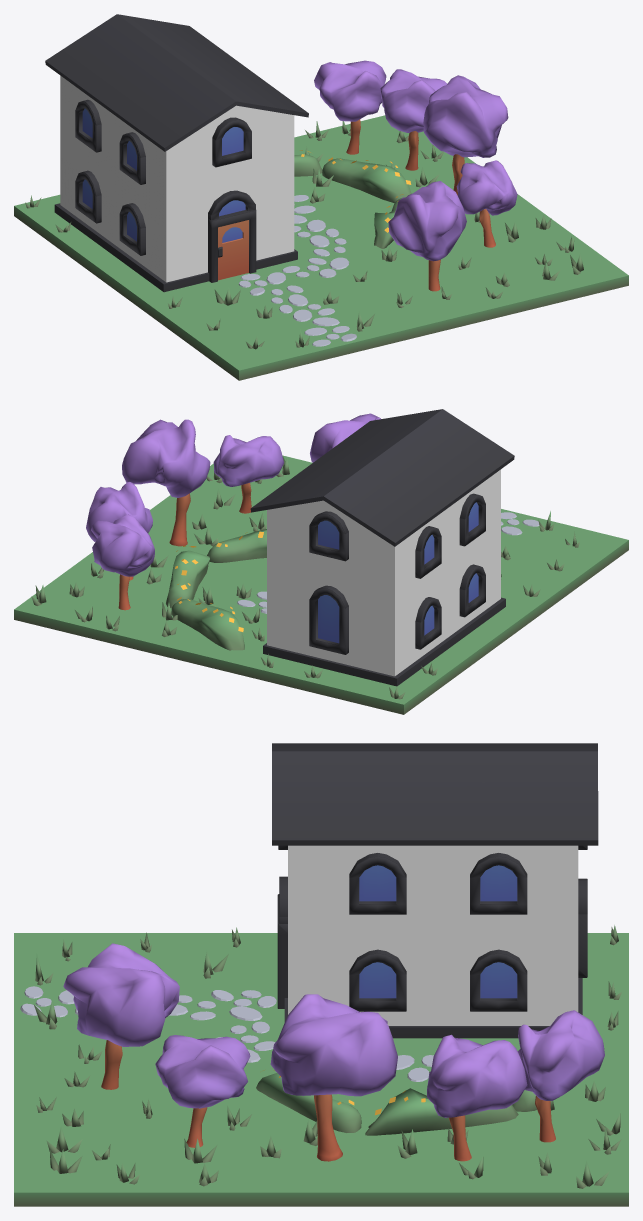
Rendered from community_center_cen.glb.
The picture shows the model from 3 angles, top to bottom: view 1: azimuth 30°, elevation 25°; view 2: azimuth 150°, elevation 25°; view 3: azimuth 270°, elevation 25°; orthographic projection. The views are drawn at different scales.
Visible parts, largest first — view 1: community_center_cen; view 2: community_center_cen; view 3: community_center_cen.
Part boxes in pixels (x1,y1,x2,y2): community_center_cen: [14, 14, 628, 380]; community_center_cen: [14, 409, 628, 714]; community_center_cen: [14, 743, 628, 1206].
Size of the model in its own units: 2 by 0.9339 by 2.
1 material, 1 textured.
